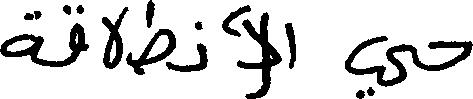X: (345, 31, 410, 98), (241, 0, 280, 98), (0, 6, 42, 70), (141, 0, 175, 79), (431, 36, 472, 75), (104, 2, 125, 73), (71, 0, 83, 67), (199, 17, 206, 75), (288, 18, 295, 73)
